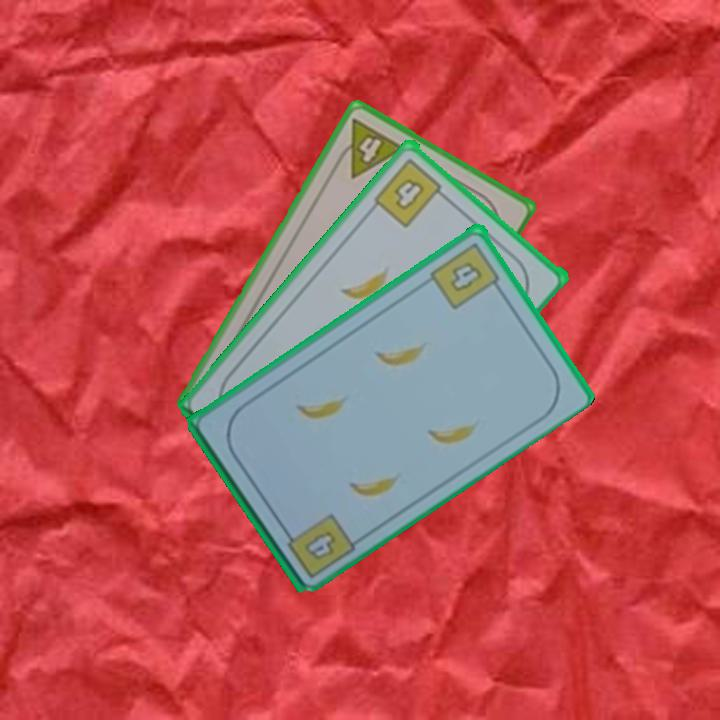4b: (370, 154, 452, 230), (427, 238, 506, 312), (278, 509, 358, 581)
4p: (329, 114, 408, 181)
